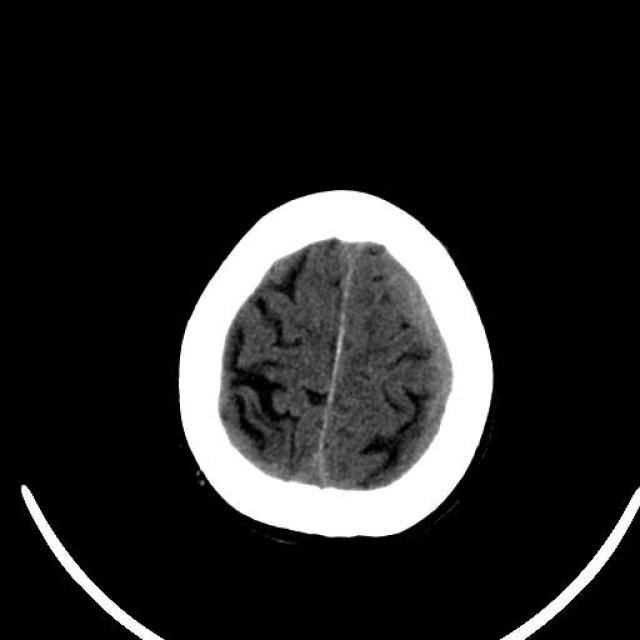Subdural: (385, 256, 469, 468)
